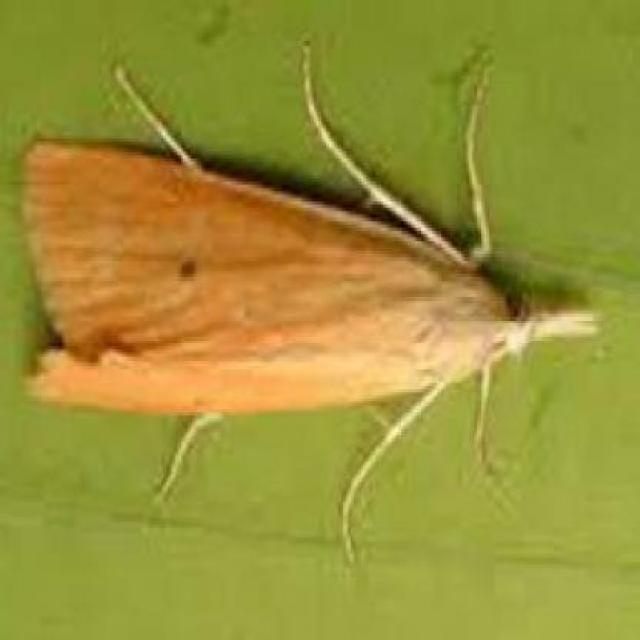stem-borer: (17, 40, 603, 571)
